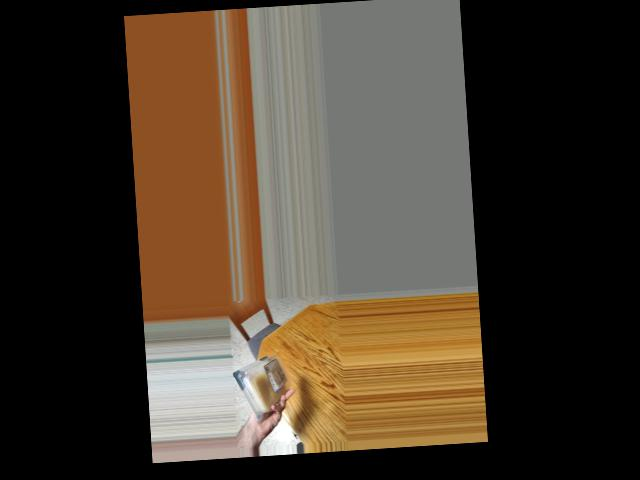cheese: (240, 354, 285, 415)
